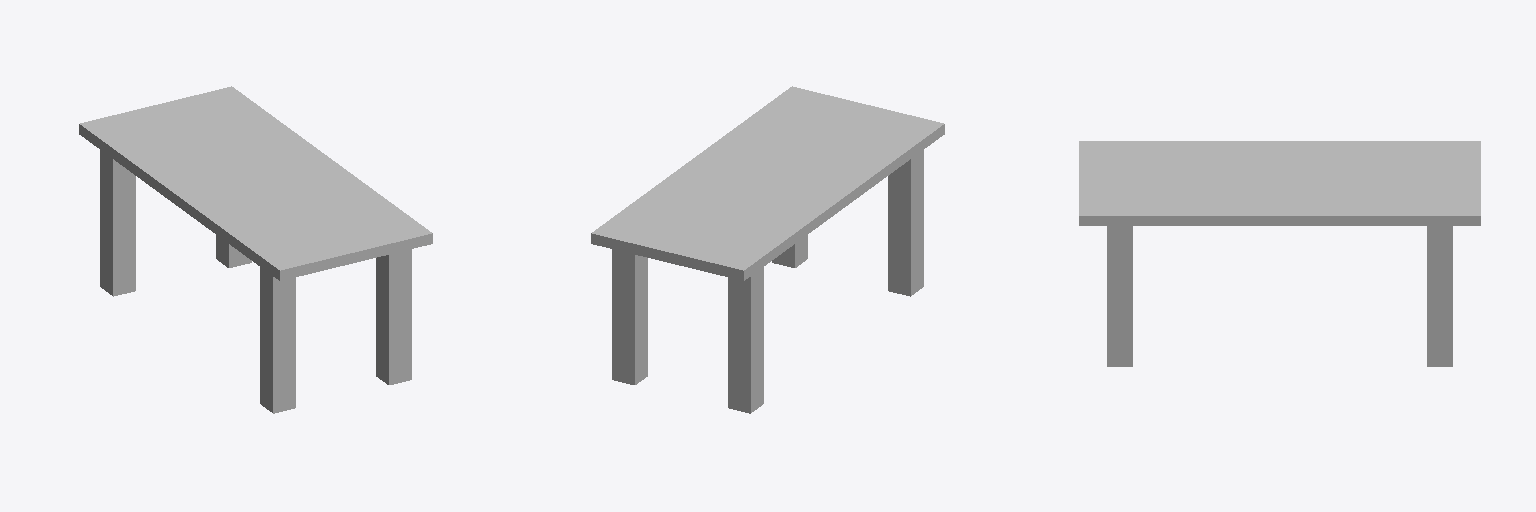
The model's file is biurko.obj.
3 renders of one model, left to right at view 1: azimuth 30°, elevation 25°; view 2: azimuth 150°, elevation 25°; view 3: azimuth 270°, elevation 25°, orthographic.
Parts seen in each view (by area): view 1: Kostka.001_Kostka.002, Kostka_Kostka.001, Kostka.002_Kostka.003, Kostka.004_Kostka.005, Kostka.003_Kostka.004; view 2: Kostka.001_Kostka.002, Kostka.002_Kostka.003, Kostka_Kostka.001, Kostka.003_Kostka.004, Kostka.004_Kostka.005; view 3: Kostka.001_Kostka.002, Kostka.003_Kostka.004, Kostka.004_Kostka.005.
Boxes of the visible parts, x1=… form: Kostka.001_Kostka.002: x1=79, y1=86, x2=432, y2=280; Kostka_Kostka.001: x1=260, y1=267, x2=295, y2=413; Kostka.002_Kostka.003: x1=100, y1=150, x2=135, y2=296; Kostka.004_Kostka.005: x1=376, y1=249, x2=411, y2=384; Kostka.003_Kostka.004: x1=216, y1=235, x2=251, y2=267; Kostka.001_Kostka.002: x1=591, y1=86, x2=944, y2=280; Kostka.002_Kostka.003: x1=728, y1=267, x2=763, y2=413; Kostka_Kostka.001: x1=888, y1=150, x2=923, y2=296; Kostka.003_Kostka.004: x1=612, y1=249, x2=647, y2=384; Kostka.004_Kostka.005: x1=772, y1=235, x2=807, y2=267; Kostka.001_Kostka.002: x1=1079, y1=141, x2=1480, y2=225; Kostka.003_Kostka.004: x1=1427, y1=226, x2=1452, y2=366; Kostka.004_Kostka.005: x1=1107, y1=226, x2=1132, y2=366.
Bounding box in the file's own units: 0.8796 × 0.8512 × 2.